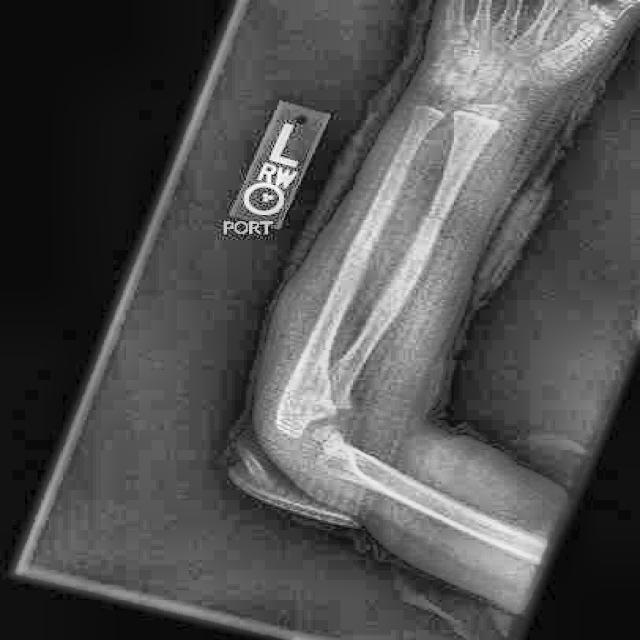forearm fracture: (396, 202, 465, 252)
